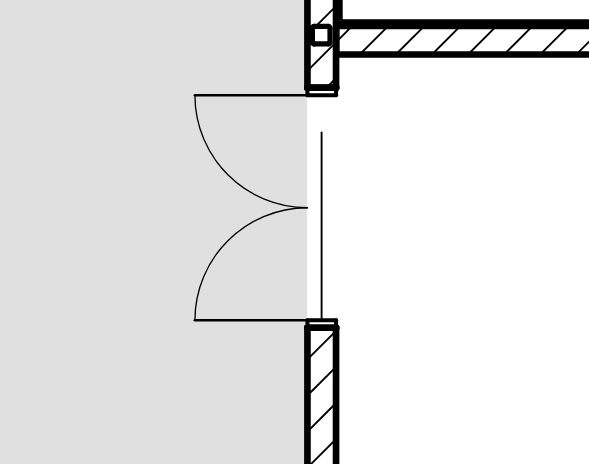double door: (185, 89, 344, 332)
